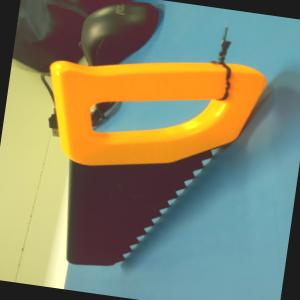serrote: (20, 38, 268, 288)
